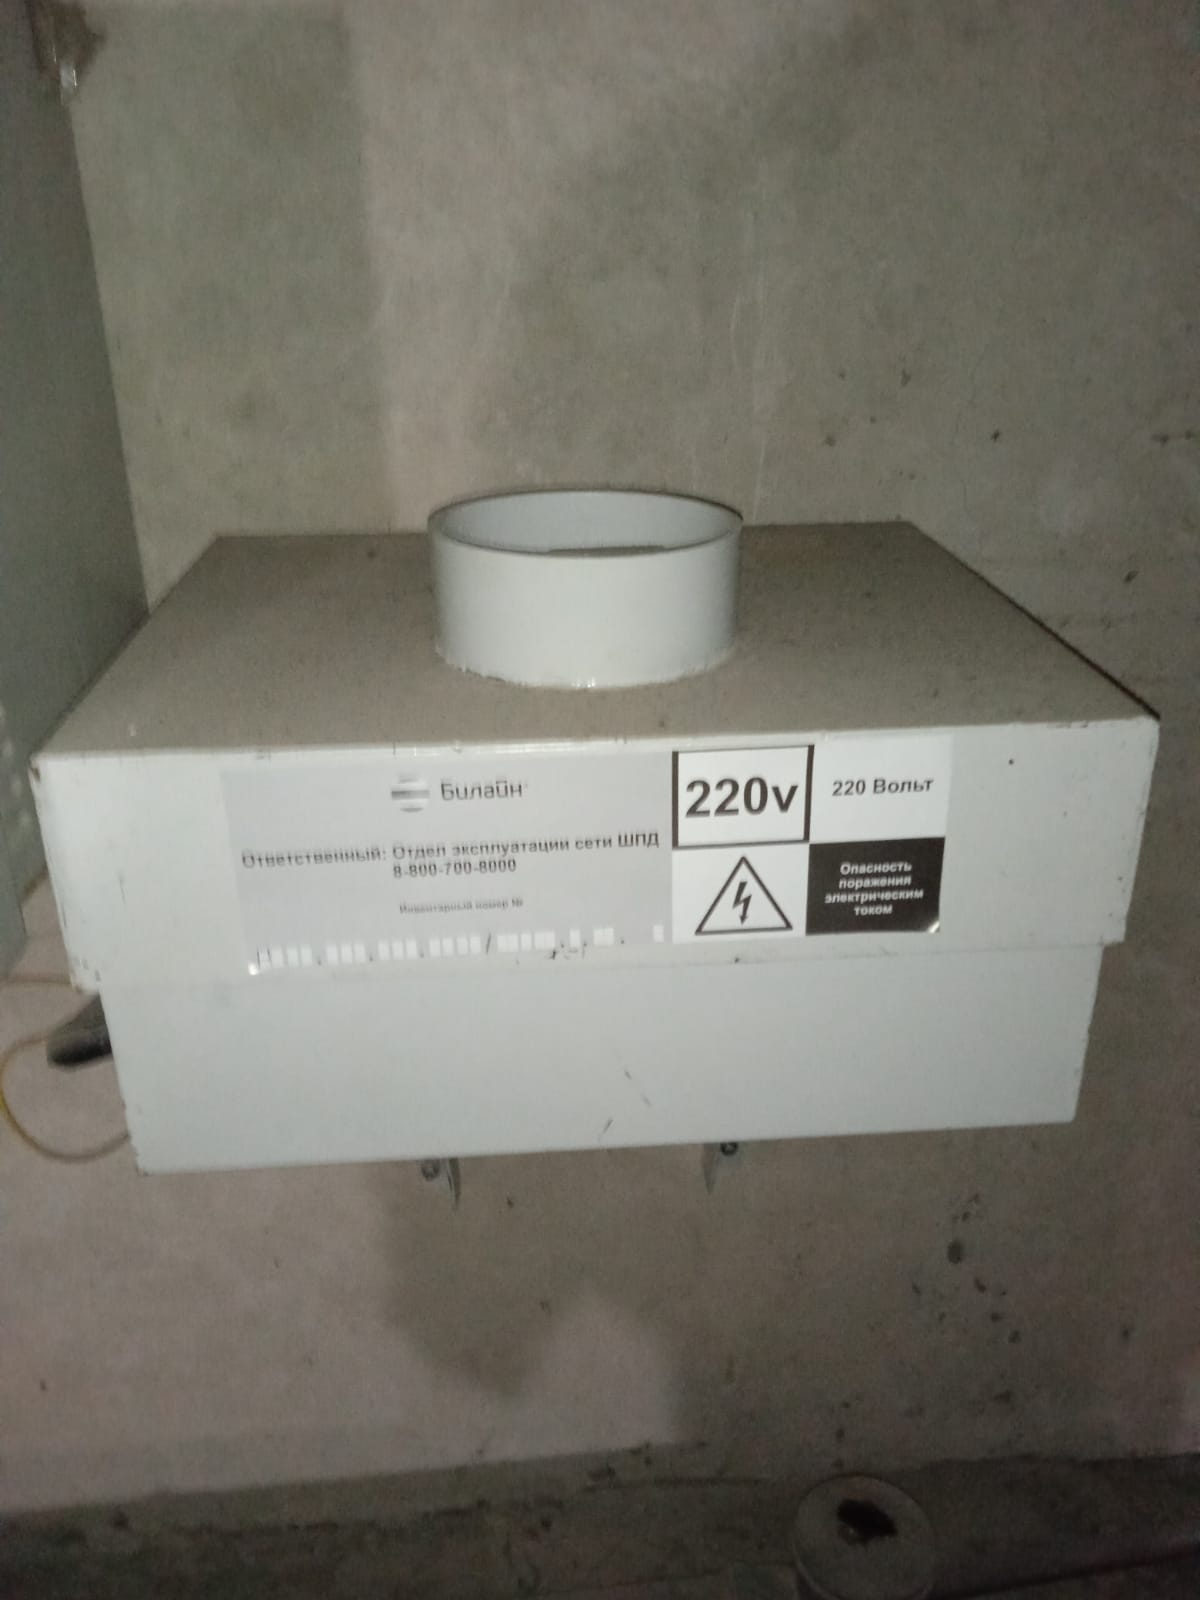shta-ps: (21, 466, 1168, 1186)
